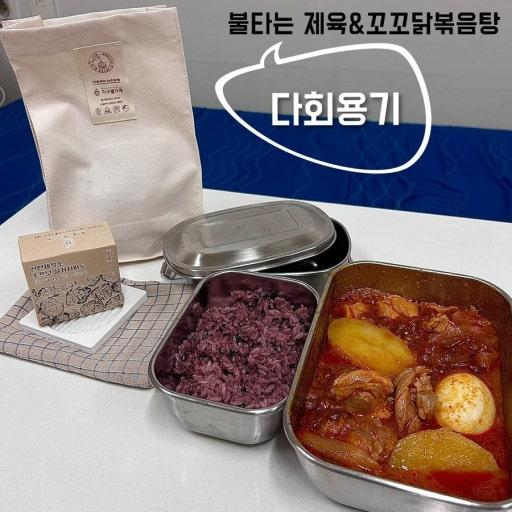Lunch Box: (284, 262, 511, 511), (149, 271, 318, 443)
